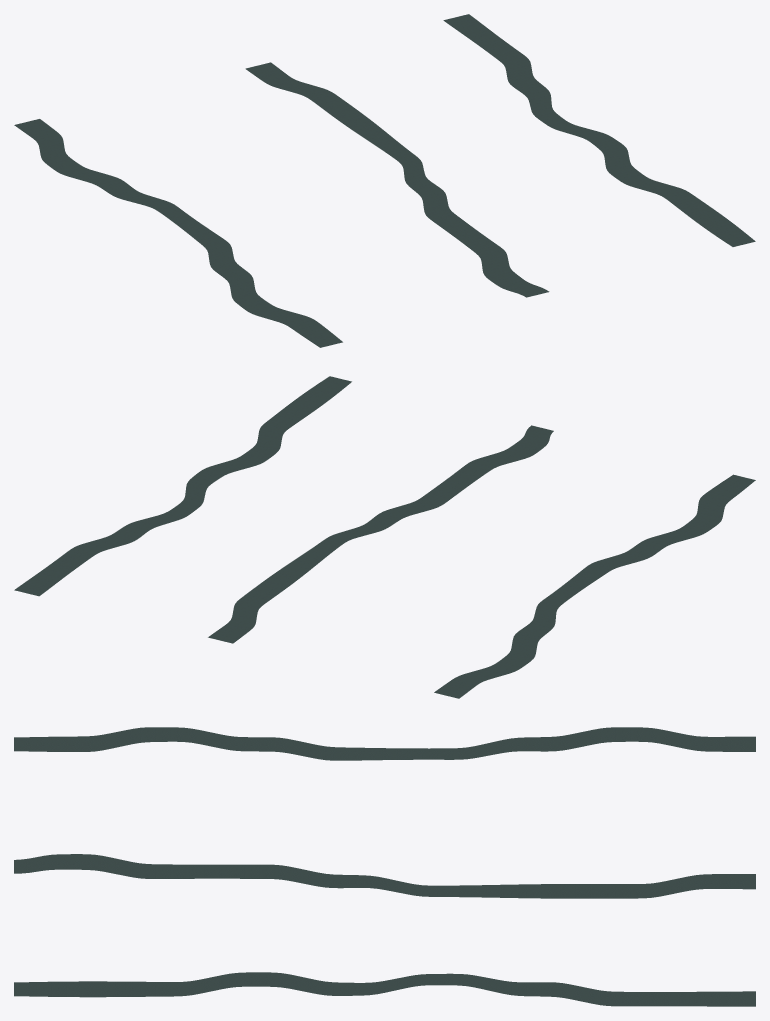
File: water.glb
The picture shows the model from 3 angles, top to bottom: view 1: azimuth 30°, elevation 25°; view 2: azimuth 150°, elevation 25°; view 3: azimuth 270°, elevation 25°; orthographic projection. The views are drawn at different scales.
Parts seen in each view (by area): view 1: RiverWater_0, RiverWater_1, RiverWater_2; view 2: RiverWater_2, RiverWater_1, RiverWater_0; view 3: RiverWater_2, RiverWater_0, RiverWater_1.
Boxes of the visible parts, x1,y1,x2,y2 form: RiverWater_0: (14,119,342,347); RiverWater_1: (245,62,549,297); RiverWater_2: (443,14,755,246); RiverWater_2: (14,376,351,596); RiverWater_1: (208,425,553,643); RiverWater_0: (434,474,755,698); RiverWater_2: (14,972,755,1006); RiverWater_0: (14,727,755,760); RiverWater_1: (14,854,755,898).
Bounding box in the file's own units: 178 × 0 × 200.
1 material, 1 textured.
